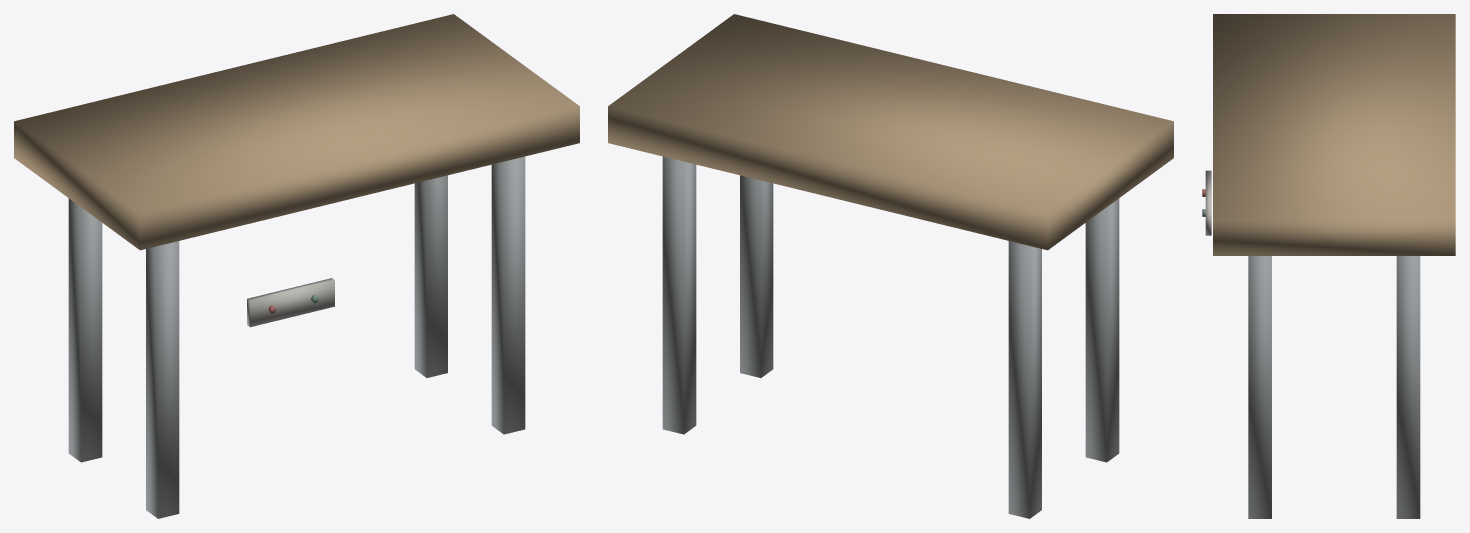
Rendered from workbench__tall.glb.
3 views of the same model, side by side, from view 1: azimuth 30°, elevation 25°; view 2: azimuth 150°, elevation 25°; view 3: azimuth 270°, elevation 25° (orthographic). The views are drawn at different scales.
Parts seen in each view (by area): view 1: world; view 2: world; view 3: world.
Part boxes in pixels (box(x1,y1,x2,y2)): world: box(14, 14, 579, 518); world: box(608, 14, 1173, 518); world: box(1202, 14, 1455, 518).
Size of the model in its own units: 1.45 by 1.03 by 0.751.
